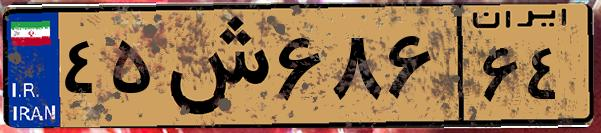4: (57, 26, 110, 100), (525, 38, 570, 115)
5: (110, 28, 158, 98)
6: (270, 28, 330, 110), (385, 28, 445, 110), (475, 38, 525, 113)
8: (330, 28, 385, 110)
ش: (158, 12, 270, 120)
